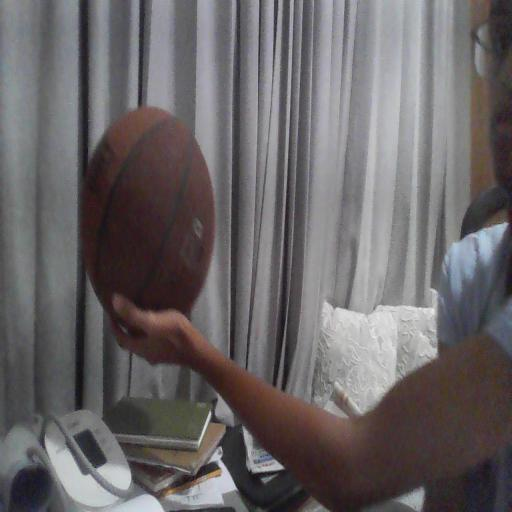basketball: (80, 107, 214, 314)
